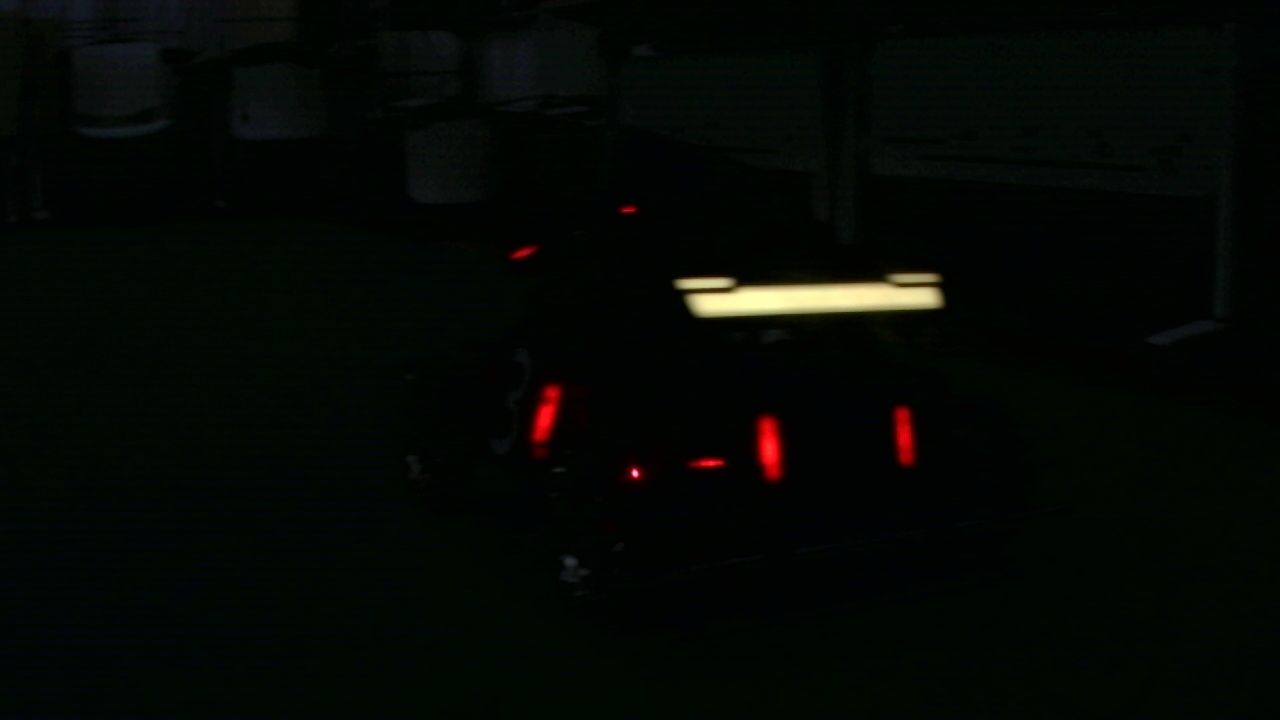lamp: (755, 411, 786, 481), (532, 378, 560, 445), (893, 400, 917, 468)
notpair1: (528, 371, 788, 486)
pair1: (757, 404, 916, 487)
